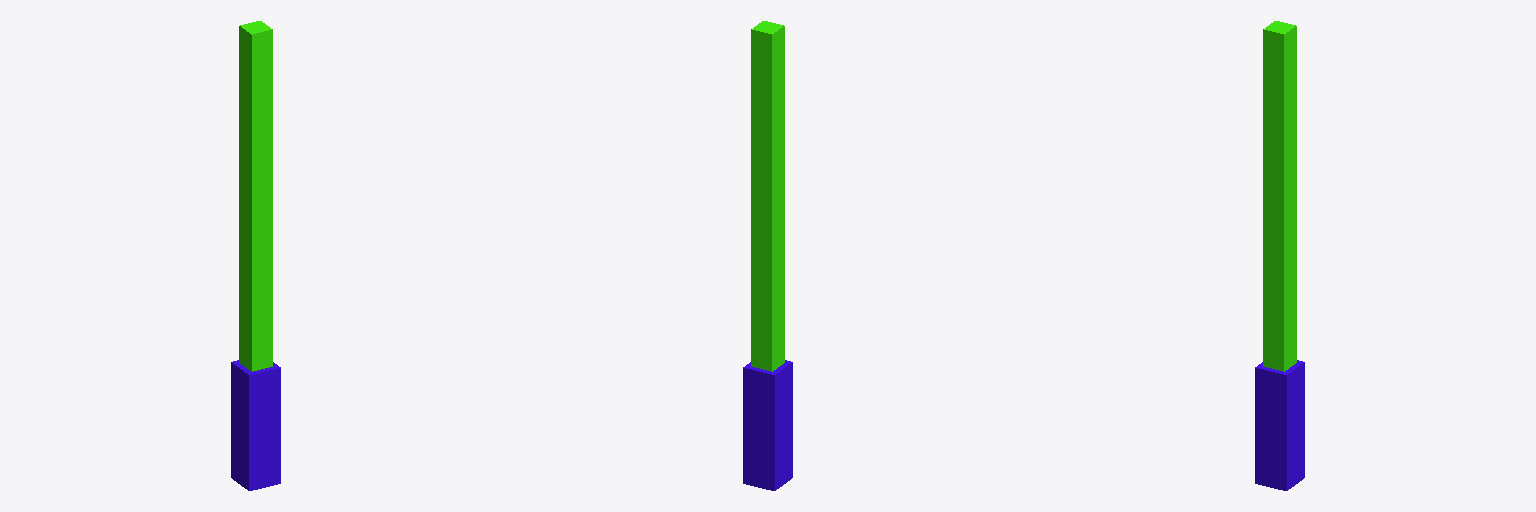
--- Render facts (derived) ---
The picture shows the robot from 3 angles, left to right: view 1: azimuth 30°, elevation 25°; view 2: azimuth 150°, elevation 25°; view 3: azimuth 330°, elevation 25°; orthographic projection.
Model test1 with 34 links and 33 joints (20 revolute, 13 fixed), rooted at base_link, posed all joints at 0.
Links seen in each view (by area): view 1: act1Seg5, act1Seg3, act1Seg6, act1Seg4, act1Seg2, act1Seg9, act1Seg10, act1Seg7, act1Seg8, act1Seg1, act0Seg10, act0Seg2 (+8 smaller); view 2: act1Seg3, act1Seg5, act1Seg6, act1Seg4, act1Seg9, act1Seg10, act1Seg2, act1Seg7, act1Seg8, act1Seg1, act0Seg10, act1Seg0 (+7 smaller); view 3: act1Seg3, act1Seg5, act1Seg6, act1Seg4, act1Seg9, act1Seg10, act1Seg2, act1Seg7, act1Seg8, act1Seg1, act0Seg10, act1Seg0 (+7 smaller).
Boxes of the visible links, box(x1,y1,x2,y2) form: act1Seg5: box(239, 183, 272, 224); act1Seg3: box(239, 250, 272, 290); act1Seg6: box(239, 152, 272, 191); act1Seg4: box(239, 219, 272, 257); act1Seg2: box(239, 283, 272, 324); act1Seg9: box(239, 51, 272, 92); act1Seg10: box(239, 21, 272, 65); act1Seg7: box(239, 117, 272, 158); act1Seg8: box(239, 86, 272, 125); act1Seg1: box(239, 316, 272, 356); act0Seg10: box(231, 360, 280, 385); act0Seg2: box(231, 448, 280, 471); act1Seg3: box(751, 250, 784, 291); act1Seg5: box(751, 183, 784, 224); act1Seg6: box(751, 150, 784, 191); act1Seg4: box(751, 217, 784, 257); act1Seg9: box(751, 51, 784, 92); act1Seg10: box(751, 21, 784, 66); act1Seg2: box(751, 283, 784, 324); act1Seg7: box(751, 117, 784, 158); act1Seg8: box(751, 84, 784, 125); act1Seg1: box(751, 316, 784, 356); act0Seg10: box(743, 360, 792, 385); act1Seg0: box(751, 342, 784, 371); act1Seg3: box(1263, 250, 1296, 291); act1Seg5: box(1263, 183, 1296, 224); act1Seg6: box(1263, 150, 1296, 191); act1Seg4: box(1263, 217, 1296, 257); act1Seg9: box(1263, 51, 1296, 92); act1Seg10: box(1263, 21, 1296, 66); act1Seg2: box(1263, 283, 1296, 324); act1Seg7: box(1263, 117, 1296, 158); act1Seg8: box(1263, 84, 1296, 125); act1Seg1: box(1263, 316, 1296, 356); act0Seg10: box(1255, 360, 1304, 385); act1Seg0: box(1263, 342, 1296, 371).
Size in the robot's own frame: 0.15 by 0.15 by 2.05 metres.
Geometry: primitives only (box / cylinder / sphere), no mesh files.

robot.urdf — test1:
<?xml version='1.0' encoding='utf-8'?>
<robot name="test1">
  <link name="base_link" />
  <link name="act0Seg0">
    <visual>
      <origin rpy="0 0 0" xyz="0 0 0.0125" />
      <geometry>
        <box size="0.15 0.15 0.05" />
      </geometry>
      <material name="blue">
        <color rgba="0.3 0.1 1.0 1.0" />
      </material>
    </visual>
    <collision>
      <origin rpy="0 0 0" xyz="0 0 0.0125" />
      <geometry>
        <box size="0.15 0.15 0.05" />
      </geometry>
    </collision>
    <inertial>
      <mass value="0.35" />
      <inertia ixx="1" ixy="0" ixz="0" iyy="1" iyz="0" izz="1" />
    </inertial>
  </link>
  <joint name="base_link_to_act0Seg0" type="fixed">
    <parent link="base_link" />
    <child link="act0Seg0" />
    <origin rpy="0 0 0" xyz="0 0 0.0" />
    <axis xyz="1 0 0" />
  </joint>
  <link name="act0Seg1">
    <visual>
      <origin rpy="0.0 0.0 0.0" xyz="0 -0.05 0.025" />
      <geometry>
        <box size="0.15 0.15 0.05" />
      </geometry>
      <material name="blue">
        <color rgba="0.3 0.1 1.0 1.0" />
      </material>
    </visual>
    <collision>
      <origin rpy="0.0 0.0 0.0" xyz="0 -0.05 0.025" />
      <geometry>
        <box size="0.15 0.15 0.05" />
      </geometry>
    </collision>
    <inertial>
      <mass value="0.35" />
      <inertia ixx="1" ixy="0" ixz="0" iyy="1" iyz="0" izz="1" />
    </inertial>
  </link>
  <joint name="act0Seg0_to_act0Seg1_ax0" type="revolute">
    <parent link="act0Seg0" />
    <child link="act0Seg1" />
    <origin rpy="0.0 0.0 0.0" xyz="0 0.05 0.025" />
    <axis xyz="1 0 0" />
    <limit effort="100" lower="-3.141592653589793" upper="3.141592653589793" velocity="3" />
  </joint>
  <link name="act0Seg2">
    <visual>
      <origin rpy="0.0 0.0 0.0" xyz="0 -0.05 0.025" />
      <geometry>
        <box size="0.15 0.15 0.05" />
      </geometry>
      <material name="blue">
        <color rgba="0.3 0.1 1.0 1.0" />
      </material>
    </visual>
    <collision>
      <origin rpy="0.0 0.0 0.0" xyz="0 -0.05 0.025" />
      <geometry>
        <box size="0.15 0.15 0.05" />
      </geometry>
    </collision>
    <inertial>
      <mass value="0.35" />
      <inertia ixx="1" ixy="0" ixz="0" iyy="1" iyz="0" izz="1" />
    </inertial>
  </link>
  <joint name="act0Seg1_to_act0Seg2_ax0" type="revolute">
    <parent link="act0Seg1" />
    <child link="act0Seg2" />
    <origin rpy="0.0 0.0 0.0" xyz="0 0.0 0.05" />
    <axis xyz="1 0 0" />
    <limit effort="100" lower="-3.141592653589793" upper="3.141592653589793" velocity="3" />
  </joint>
  <link name="act0Seg3">
    <visual>
      <origin rpy="0.0 0.0 0.0" xyz="0 -0.05 0.025" />
      <geometry>
        <box size="0.15 0.15 0.05" />
      </geometry>
      <material name="blue">
        <color rgba="0.3 0.1 1.0 1.0" />
      </material>
    </visual>
    <collision>
      <origin rpy="0.0 0.0 0.0" xyz="0 -0.05 0.025" />
      <geometry>
        <box size="0.15 0.15 0.05" />
      </geometry>
    </collision>
    <inertial>
      <mass value="0.35" />
      <inertia ixx="1" ixy="0" ixz="0" iyy="1" iyz="0" izz="1" />
    </inertial>
  </link>
  <joint name="act0Seg2_to_act0Seg3_ax0" type="revolute">
    <parent link="act0Seg2" />
    <child link="act0Seg3" />
    <origin rpy="0.0 0.0 0.0" xyz="0 0.0 0.05" />
    <axis xyz="1 0 0" />
    <limit effort="100" lower="-3.141592653589793" upper="3.141592653589793" velocity="3" />
  </joint>
  <link name="act0Seg4">
    <visual>
      <origin rpy="0.0 0.0 0.0" xyz="0 -0.05 0.025" />
      <geometry>
        <box size="0.15 0.15 0.05" />
      </geometry>
      <material name="blue">
        <color rgba="0.3 0.1 1.0 1.0" />
      </material>
    </visual>
    <collision>
      <origin rpy="0.0 0.0 0.0" xyz="0 -0.05 0.025" />
      <geometry>
        <box size="0.15 0.15 0.05" />
      </geometry>
    </collision>
    <inertial>
      <mass value="0.35" />
      <inertia ixx="1" ixy="0" ixz="0" iyy="1" iyz="0" izz="1" />
    </inertial>
  </link>
  <joint name="act0Seg3_to_act0Seg4_ax0" type="revolute">
    <parent link="act0Seg3" />
    <child link="act0Seg4" />
    <origin rpy="0.0 0.0 0.0" xyz="0 0.0 0.05" />
    <axis xyz="1 0 0" />
    <limit effort="100" lower="-3.141592653589793" upper="3.141592653589793" velocity="3" />
  </joint>
  <link name="act0Seg5">
    <visual>
      <origin rpy="0.0 0.0 0.0" xyz="0 -0.05 0.025" />
      <geometry>
        <box size="0.15 0.15 0.05" />
      </geometry>
      <material name="blue">
        <color rgba="0.3 0.1 1.0 1.0" />
      </material>
    </visual>
    <collision>
      <origin rpy="0.0 0.0 0.0" xyz="0 -0.05 0.025" />
      <geometry>
        <box size="0.15 0.15 0.05" />
      </geometry>
    </collision>
    <inertial>
      <mass value="0.35" />
      <inertia ixx="1" ixy="0" ixz="0" iyy="1" iyz="0" izz="1" />
    </inertial>
  </link>
  <joint name="act0Seg4_to_act0Seg5_ax0" type="revolute">
    <parent link="act0Seg4" />
    <child link="act0Seg5" />
    <origin rpy="0.0 0.0 0.0" xyz="0 0.0 0.05" />
    <axis xyz="1 0 0" />
    <limit effort="100" lower="-3.141592653589793" upper="3.141592653589793" velocity="3" />
  </joint>
  <link name="act0Seg6">
    <visual>
      <origin rpy="0.0 0.0 0.0" xyz="0 -0.05 0.025" />
      <geometry>
        <box size="0.15 0.15 0.05" />
      </geometry>
      <material name="blue">
        <color rgba="0.3 0.1 1.0 1.0" />
      </material>
    </visual>
    <collision>
      <origin rpy="0.0 0.0 0.0" xyz="0 -0.05 0.025" />
      <geometry>
        <box size="0.15 0.15 0.05" />
      </geometry>
    </collision>
    <inertial>
      <mass value="0.35" />
      <inertia ixx="1" ixy="0" ixz="0" iyy="1" iyz="0" izz="1" />
    </inertial>
  </link>
  <joint name="act0Seg5_to_act0Seg6_ax0" type="revolute">
    <parent link="act0Seg5" />
    <child link="act0Seg6" />
    <origin rpy="0.0 0.0 0.0" xyz="0 0.0 0.05" />
    <axis xyz="1 0 0" />
    <limit effort="100" lower="-3.141592653589793" upper="3.141592653589793" velocity="3" />
  </joint>
  <link name="act0Seg7">
    <visual>
      <origin rpy="0.0 0.0 0.0" xyz="0 -0.05 0.025" />
      <geometry>
        <box size="0.15 0.15 0.05" />
      </geometry>
      <material name="blue">
        <color rgba="0.3 0.1 1.0 1.0" />
      </material>
    </visual>
    <collision>
      <origin rpy="0.0 0.0 0.0" xyz="0 -0.05 0.025" />
      <geometry>
        <box size="0.15 0.15 0.05" />
      </geometry>
    </collision>
    <inertial>
      <mass value="0.35" />
      <inertia ixx="1" ixy="0" ixz="0" iyy="1" iyz="0" izz="1" />
    </inertial>
  </link>
  <joint name="act0Seg6_to_act0Seg7_ax0" type="revolute">
    <parent link="act0Seg6" />
    <child link="act0Seg7" />
    <origin rpy="0.0 0.0 0.0" xyz="0 0.0 0.05" />
    <axis xyz="1 0 0" />
    <limit effort="100" lower="-3.141592653589793" upper="3.141592653589793" velocity="3" />
  </joint>
  <link name="act0Seg8">
    <visual>
      <origin rpy="0.0 0.0 0.0" xyz="0 -0.05 0.025" />
      <geometry>
        <box size="0.15 0.15 0.05" />
      </geometry>
      <material name="blue">
        <color rgba="0.3 0.1 1.0 1.0" />
      </material>
    </visual>
    <collision>
      <origin rpy="0.0 0.0 0.0" xyz="0 -0.05 0.025" />
      <geometry>
        <box size="0.15 0.15 0.05" />
      </geometry>
    </collision>
    <inertial>
      <mass value="0.35" />
      <inertia ixx="1" ixy="0" ixz="0" iyy="1" iyz="0" izz="1" />
    </inertial>
  </link>
  <joint name="act0Seg7_to_act0Seg8_ax0" type="revolute">
    <parent link="act0Seg7" />
    <child link="act0Seg8" />
    <origin rpy="0.0 0.0 0.0" xyz="0 0.0 0.05" />
    <axis xyz="1 0 0" />
    <limit effort="100" lower="-3.141592653589793" upper="3.141592653589793" velocity="3" />
  </joint>
  <link name="act0Seg9">
    <visual>
      <origin rpy="0.0 0.0 0.0" xyz="0 -0.05 0.025" />
      <geometry>
        <box size="0.15 0.15 0.05" />
      </geometry>
      <material name="blue">
        <color rgba="0.3 0.1 1.0 1.0" />
      </material>
    </visual>
    <collision>
      <origin rpy="0.0 0.0 0.0" xyz="0 -0.05 0.025" />
      <geometry>
        <box size="0.15 0.15 0.05" />
      </geometry>
    </collision>
    <inertial>
      <mass value="0.35" />
      <inertia ixx="1" ixy="0" ixz="0" iyy="1" iyz="0" izz="1" />
    </inertial>
  </link>
  <joint name="act0Seg8_to_act0Seg9_ax0" type="revolute">
    <parent link="act0Seg8" />
    <child link="act0Seg9" />
    <origin rpy="0.0 0.0 0.0" xyz="0 0.0 0.05" />
    <axis xyz="1 0 0" />
    <limit effort="100" lower="-3.141592653589793" upper="3.141592653589793" velocity="3" />
  </joint>
  <link name="act0Seg10">
    <visual>
      <origin rpy="0.0 0.0 0.0" xyz="0 -0.05 0.0125" />
      <geometry>
        <box size="0.15 0.15 0.05" />
      </geometry>
      <material name="blue">
        <color rgba="0.3 0.1 1.0 1.0" />
      </material>
    </visual>
    <collision>
      <origin rpy="0.0 0.0 0.0" xyz="0 -0.05 0.0125" />
      <geometry>
        <box size="0.15 0.15 0.05" />
      </geometry>
    </collision>
    <inertial>
      <mass value="0.35" />
      <inertia ixx="1" ixy="0" ixz="0" iyy="1" iyz="0" izz="1" />
    </inertial>
  </link>
  <joint name="act0Seg9_to_act0Seg10_ax0" type="revolute">
    <parent link="act0Seg9" />
    <child link="act0Seg10" />
    <origin rpy="0.0 0.0 0.0" xyz="0 0.0 0.05" />
    <axis xyz="1 0 0" />
    <limit effort="100" lower="-3.141592653589793" upper="3.141592653589793" velocity="3" />
  </joint>
  <link name="act1Seg0">
    <visual>
      <origin rpy="0 0 0" xyz="0 0 0.0375" />
      <geometry>
        <box size="0.1 0.1 0.15" />
      </geometry>
      <material name="green">
        <color rgba="0.3 1 0.1 1.0" />
      </material>
    </visual>
    <collision>
      <origin rpy="0 0 0" xyz="0 0 0.0375" />
      <geometry>
        <box size="0.1 0.1 0.15" />
      </geometry>
    </collision>
    <inertial>
      <mass value="0.35" />
      <inertia ixx="1" ixy="0" ixz="0" iyy="1" iyz="0" izz="1" />
    </inertial>
  </link>
  <joint name="act0Seg10_to_act1Seg0_ax1" type="fixed">
    <parent link="act0Seg10" />
    <child link="act1Seg0" />
    <origin rpy="0.0 0.0 0.0" xyz="0 -0.05 0.025" />
    <axis xyz="0 1 0" />
    <limit effort="100" lower="-3.141592653589793" upper="3.141592653589793" velocity="3" />
  </joint>
  <link name="act1Seg0helper_shape">
    <visual>
      <origin rpy="-1.5707963267948966 0 0" xyz="0 0 0.0" />
      <geometry>
        <cylinder length="0.1" radius="0.05" />
      </geometry>
      <material name="green">
        <color rgba="0.3 1 0.1 1.0" />
      </material>
    </visual>
    <collision>
      <origin rpy="-1.5707963267948966 0 0" xyz="0 0 0.0" />
      <geometry>
        <cylinder length="0.1" radius="0.05" />
      </geometry>
    </collision>
    <inertial>
      <mass value="0.00035" />
      <inertia ixx="0.001" ixy="0.0" ixz="0.0" iyy="0.001" iyz="0.0" izz="0.001" />
    </inertial>
  </link>
  <joint name="act0Seg10_to_act1Seg0_ax1helper_shape" type="fixed">
    <parent link="act0Seg10" />
    <child link="act1Seg0helper_shape" />
    <origin rpy="0.0 0.0 0.0" xyz="0 -0.05 0.025" />
    <axis xyz="1 0 0" />
  </joint>
  <link name="act1Seg1">
    <visual>
      <origin rpy="0.0 0.0 0.0" xyz="0 -0.05 0.075" />
      <geometry>
        <box size="0.1 0.1 0.15" />
      </geometry>
      <material name="green">
        <color rgba="0.3 1 0.1 1.0" />
      </material>
    </visual>
    <collision>
      <origin rpy="0.0 0.0 0.0" xyz="0 -0.05 0.075" />
      <geometry>
        <box size="0.1 0.1 0.15" />
      </geometry>
    </collision>
    <inertial>
      <mass value="0.35" />
      <inertia ixx="1" ixy="0" ixz="0" iyy="1" iyz="0" izz="1" />
    </inertial>
  </link>
  <joint name="act1Seg0_to_act1Seg1_ax0" type="revolute">
    <parent link="act1Seg0" />
    <child link="act1Seg1" />
    <origin rpy="0.0 0.0 0.0" xyz="0 0.05 0.075" />
    <axis xyz="1 0 0" />
    <limit effort="100" lower="-3.141592653589793" upper="3.141592653589793" velocity="3" />
  </joint>
  <link name="act1Seg1helper_shape">
    <visual>
      <origin rpy="0 -1.5707963267948966 0" xyz="0 0 0.0" />
      <geometry>
        <cylinder length="0.1" radius="0.05" />
      </geometry>
      <material name="green">
        <color rgba="0.3 1 0.1 1.0" />
      </material>
    </visual>
    <collision>
      <origin rpy="0 -1.5707963267948966 0" xyz="0 0 0.0" />
      <geometry>
        <cylinder length="0.1" radius="0.05" />
      </geometry>
    </collision>
    <inertial>
      <mass value="0.00035" />
      <inertia ixx="0.001" ixy="0.0" ixz="0.0" iyy="0.001" iyz="0.0" izz="0.001" />
    </inertial>
  </link>
  <joint name="act1Seg0_to_act1Seg1_ax0helper_shape" type="fixed">
    <parent link="act1Seg0" />
    <child link="act1Seg1helper_shape" />
    <origin rpy="0 0 0" xyz="0 0 0.075" />
    <axis xyz="1 0 0" />
  </joint>
  <link name="act1Seg2">
    <visual>
      <origin rpy="0 0 0" xyz="0 0 0.075" />
      <geometry>
        <box size="0.1 0.1 0.15" />
      </geometry>
      <material name="green">
        <color rgba="0.3 1 0.1 1.0" />
      </material>
    </visual>
    <collision>
      <origin rpy="0 0 0" xyz="0 0 0.075" />
      <geometry>
        <box size="0.1 0.1 0.15" />
      </geometry>
    </collision>
    <inertial>
      <mass value="0.35" />
      <inertia ixx="1" ixy="0" ixz="0" iyy="1" iyz="0" izz="1" />
    </inertial>
  </link>
  <joint name="act1Seg1_to_act1Seg2_ax1" type="revolute">
    <parent link="act1Seg1" />
    <child link="act1Seg2" />
    <origin rpy="0.0 0.0 0.0" xyz="0 -0.05 0.15" />
    <axis xyz="0 1 0" />
    <limit effort="100" lower="-3.141592653589793" upper="3.141592653589793" velocity="3" />
  </joint>
  <link name="act1Seg2helper_shape">
    <visual>
      <origin rpy="-1.5707963267948966 0 0" xyz="0 0 0.0" />
      <geometry>
        <cylinder length="0.1" radius="0.05" />
      </geometry>
      <material name="green">
        <color rgba="0.3 1 0.1 1.0" />
      </material>
    </visual>
    <collision>
      <origin rpy="-1.5707963267948966 0 0" xyz="0 0 0.0" />
      <geometry>
        <cylinder length="0.1" radius="0.05" />
      </geometry>
    </collision>
    <inertial>
      <mass value="0.00035" />
      <inertia ixx="0.001" ixy="0.0" ixz="0.0" iyy="0.001" iyz="0.0" izz="0.001" />
    </inertial>
  </link>
  <joint name="act1Seg1_to_act1Seg2_ax1helper_shape" type="fixed">
    <parent link="act1Seg1" />
    <child link="act1Seg2helper_shape" />
    <origin rpy="0.0 0.0 0.0" xyz="0 -0.05 0.15" />
    <axis xyz="1 0 0" />
  </joint>
  <link name="act1Seg3">
    <visual>
      <origin rpy="0.0 0.0 0.0" xyz="0 -0.05 0.075" />
      <geometry>
        <box size="0.1 0.1 0.15" />
      </geometry>
      <material name="green">
        <color rgba="0.3 1 0.1 1.0" />
      </material>
    </visual>
    <collision>
      <origin rpy="0.0 0.0 0.0" xyz="0 -0.05 0.075" />
      <geometry>
        <box size="0.1 0.1 0.15" />
      </geometry>
    </collision>
    <inertial>
      <mass value="0.35" />
      <inertia ixx="1" ixy="0" ixz="0" iyy="1" iyz="0" izz="1" />
    </inertial>
  </link>
  <joint name="act1Seg2_to_act1Seg3_ax0" type="revolute">
    <parent link="act1Seg2" />
    <child link="act1Seg3" />
    <origin rpy="0.0 0.0 0.0" xyz="0 0.05 0.15" />
    <axis xyz="1 0 0" />
    <limit effort="100" lower="-3.141592653589793" upper="3.141592653589793" velocity="3" />
  </joint>
  <link name="act1Seg3helper_shape">
    <visual>
      <origin rpy="0 -1.5707963267948966 0" xyz="0 0 0.0" />
      <geometry>
        <cylinder length="0.1" radius="0.05" />
      </geometry>
      <material name="green">
        <color rgba="0.3 1 0.1 1.0" />
      </material>
    </visual>
    <collision>
      <origin rpy="0 -1.5707963267948966 0" xyz="0 0 0.0" />
      <geometry>
        <cylinder length="0.1" radius="0.05" />
      </geometry>
    </collision>
    <inertial>
      <mass value="0.00035" />
      <inertia ixx="0.001" ixy="0.0" ixz="0.0" iyy="0.001" iyz="0.0" izz="0.001" />
    </inertial>
  </link>
  <joint name="act1Seg2_to_act1Seg3_ax0helper_shape" type="fixed">
    <parent link="act1Seg2" />
    <child link="act1Seg3helper_shape" />
    <origin rpy="0 0 0" xyz="0 0 0.15" />
    <axis xyz="1 0 0" />
  </joint>
  <link name="act1Seg4">
    <visual>
      <origin rpy="0 0 0" xyz="0 0 0.075" />
      <geometry>
        <box size="0.1 0.1 0.15" />
      </geometry>
      <material name="green">
        <color rgba="0.3 1 0.1 1.0" />
      </material>
    </visual>
    <collision>
      <origin rpy="0 0 0" xyz="0 0 0.075" />
      <geometry>
        <box size="0.1 0.1 0.15" />
      </geometry>
    </collision>
    <inertial>
      <mass value="0.35" />
      <inertia ixx="1" ixy="0" ixz="0" iyy="1" iyz="0" izz="1" />
    </inertial>
  </link>
  <joint name="act1Seg3_to_act1Seg4_ax1" type="revolute">
    <parent link="act1Seg3" />
    <child link="act1Seg4" />
    <origin rpy="0.0 0.0 0.0" xyz="0 -0.05 0.15" />
    <axis xyz="0 1 0" />
    <limit effort="100" lower="-3.141592653589793" upper="3.141592653589793" velocity="3" />
  </joint>
  <link name="act1Seg4helper_shape">
    <visual>
      <origin rpy="-1.5707963267948966 0 0" xyz="0 0 0.0" />
      <geometry>
        <cylinder length="0.1" radius="0.05" />
      </geometry>
      <material name="green">
        <color rgba="0.3 1 0.1 1.0" />
      </material>
    </visual>
    <collision>
      <origin rpy="-1.5707963267948966 0 0" xyz="0 0 0.0" />
      <geometry>
        <cylinder length="0.1" radius="0.05" />
      </geometry>
    </collision>
    <inertial>
      <mass value="0.00035" />
      <inertia ixx="0.001" ixy="0.0" ixz="0.0" iyy="0.001" iyz="0.0" izz="0.001" />
    </inertial>
  </link>
  <joint name="act1Seg3_to_act1Seg4_ax1helper_shape" type="fixed">
    <parent link="act1Seg3" />
    <child link="act1Seg4helper_shape" />
    <origin rpy="0.0 0.0 0.0" xyz="0 -0.05 0.15" />
    <axis xyz="1 0 0" />
  </joint>
  <link name="act1Seg5">
    <visual>
      <origin rpy="0.0 0.0 0.0" xyz="0 -0.05 0.075" />
      <geometry>
        <box size="0.1 0.1 0.15" />
      </geometry>
      <material name="green">
        <color rgba="0.3 1 0.1 1.0" />
      </material>
    </visual>
    <collision>
      <origin rpy="0.0 0.0 0.0" xyz="0 -0.05 0.075" />
      <geometry>
        <box size="0.1 0.1 0.15" />
      </geometry>
    </collision>
    <inertial>
      <mass value="0.35" />
      <inertia ixx="1" ixy="0" ixz="0" iyy="1" iyz="0" izz="1" />
    </inertial>
  </link>
  <joint name="act1Seg4_to_act1Seg5_ax0" type="revolute">
    <parent link="act1Seg4" />
    <child link="act1Seg5" />
    <origin rpy="0.0 0.0 0.0" xyz="0 0.05 0.15" />
    <axis xyz="1 0 0" />
    <limit effort="100" lower="-3.141592653589793" upper="3.141592653589793" velocity="3" />
  </joint>
  <link name="act1Seg5helper_shape">
    <visual>
      <origin rpy="0 -1.5707963267948966 0" xyz="0 0 0.0" />
      <geometry>
        <cylinder length="0.1" radius="0.05" />
      </geometry>
      <material name="green">
        <color rgba="0.3 1 0.1 1.0" />
      </material>
    </visual>
    <collision>
      <origin rpy="0 -1.5707963267948966 0" xyz="0 0 0.0" />
      <geometry>
        <cylinder length="0.1" radius="0.05" />
      </geometry>
    </collision>
    <inertial>
      <mass value="0.00035" />
      <inertia ixx="0.001" ixy="0.0" ixz="0.0" iyy="0.001" iyz="0.0" izz="0.001" />
    </inertial>
  </link>
  <joint name="act1Seg4_to_act1Seg5_ax0helper_shape" type="fixed">
    <parent link="act1Seg4" />
    <child link="act1Seg5helper_shape" />
    <origin rpy="0 0 0" xyz="0 0 0.15" />
    <axis xyz="1 0 0" />
  </joint>
  <link name="act1Seg6">
    <visual>
      <origin rpy="0 0 0" xyz="0 0 0.075" />
      <geometry>
        <box size="0.1 0.1 0.15" />
      </geometry>
      <material name="green">
        <color rgba="0.3 1 0.1 1.0" />
      </material>
    </visual>
    <collision>
      <origin rpy="0 0 0" xyz="0 0 0.075" />
      <geometry>
        <box size="0.1 0.1 0.15" />
      </geometry>
    </collision>
    <inertial>
      <mass value="0.35" />
      <inertia ixx="1" ixy="0" ixz="0" iyy="1" iyz="0" izz="1" />
    </inertial>
  </link>
  <joint name="act1Seg5_to_act1Seg6_ax1" type="revolute">
    <parent link="act1Seg5" />
    <child link="act1Seg6" />
    <origin rpy="0.0 0.0 0.0" xyz="0 -0.05 0.15" />
    <axis xyz="0 1 0" />
    <limit effort="100" lower="-3.141592653589793" upper="3.141592653589793" velocity="3" />
  </joint>
  <link name="act1Seg6helper_shape">
    <visual>
      <origin rpy="-1.5707963267948966 0 0" xyz="0 0 0.0" />
      <geometry>
        <cylinder length="0.1" radius="0.05" />
      </geometry>
      <material name="green">
        <color rgba="0.3 1 0.1 1.0" />
      </material>
    </visual>
    <collision>
      <origin rpy="-1.5707963267948966 0 0" xyz="0 0 0.0" />
      <geometry>
        <cylinder length="0.1" radius="0.05" />
      </geometry>
    </collision>
    <inertial>
      <mass value="0.00035" />
      <inertia ixx="0.001" ixy="0.0" ixz="0.0" iyy="0.001" iyz="0.0" izz="0.001" />
    </inertial>
  </link>
  <joint name="act1Seg5_to_act1Seg6_ax1helper_shape" type="fixed">
    <parent link="act1Seg5" />
    <child link="act1Seg6helper_shape" />
    <origin rpy="0.0 0.0 0.0" xyz="0 -0.05 0.15" />
    <axis xyz="1 0 0" />
  </joint>
  <link name="act1Seg7">
    <visual>
      <origin rpy="0.0 0.0 0.0" xyz="0 -0.05 0.075" />
      <geometry>
        <box size="0.1 0.1 0.15" />
      </geometry>
      <material name="green">
        <color rgba="0.3 1 0.1 1.0" />
      </material>
    </visual>
    <collision>
      <origin rpy="0.0 0.0 0.0" xyz="0 -0.05 0.075" />
      <geometry>
        <box size="0.1 0.1 0.15" />
      </geometry>
    </collision>
    <inertial>
      <mass value="0.35" />
      <inertia ixx="1" ixy="0" ixz="0" iyy="1" iyz="0" izz="1" />
    </inertial>
  </link>
  <joint name="act1Seg6_to_act1Seg7_ax0" type="revolute">
    <parent link="act1Seg6" />
    <child link="act1Seg7" />
    <origin rpy="0.0 0.0 0.0" xyz="0 0.05 0.15" />
    <axis xyz="1 0 0" />
    <limit effort="100" lower="-3.141592653589793" upper="3.141592653589793" velocity="3" />
  </joint>
  <link name="act1Seg7helper_shape">
    <visual>
      <origin rpy="0 -1.5707963267948966 0" xyz="0 0 0.0" />
      <geometry>
        <cylinder length="0.1" radius="0.05" />
      </geometry>
      <material name="green">
        <color rgba="0.3 1 0.1 1.0" />
      </material>
    </visual>
    <collision>
      <origin rpy="0 -1.5707963267948966 0" xyz="0 0 0.0" />
      <geometry>
        <cylinder length="0.1" radius="0.05" />
      </geometry>
    </collision>
    <inertial>
      <mass value="0.00035" />
      <inertia ixx="0.001" ixy="0.0" ixz="0.0" iyy="0.001" iyz="0.0" izz="0.001" />
    </inertial>
  </link>
  <joint name="act1Seg6_to_act1Seg7_ax0helper_shape" type="fixed">
    <parent link="act1Seg6" />
    <child link="act1Seg7helper_shape" />
    <origin rpy="0 0 0" xyz="0 0 0.15" />
    <axis xyz="1 0 0" />
  </joint>
  <link name="act1Seg8">
    <visual>
      <origin rpy="0 0 0" xyz="0 0 0.075" />
      <geometry>
        <box size="0.1 0.1 0.15" />
      </geometry>
      <material name="green">
        <color rgba="0.3 1 0.1 1.0" />
      </material>
    </visual>
    <collision>
      <origin rpy="0 0 0" xyz="0 0 0.075" />
      <geometry>
        <box size="0.1 0.1 0.15" />
      </geometry>
    </collision>
    <inertial>
      <mass value="0.35" />
      <inertia ixx="1" ixy="0" ixz="0" iyy="1" iyz="0" izz="1" />
    </inertial>
  </link>
  <joint name="act1Seg7_to_act1Seg8_ax1" type="revolute">
    <parent link="act1Seg7" />
    <child link="act1Seg8" />
    <origin rpy="0.0 0.0 0.0" xyz="0 -0.05 0.15" />
    <axis xyz="0 1 0" />
    <limit effort="100" lower="-3.141592653589793" upper="3.141592653589793" velocity="3" />
  </joint>
  <link name="act1Seg8helper_shape">
    <visual>
      <origin rpy="-1.5707963267948966 0 0" xyz="0 0 0.0" />
      <geometry>
        <cylinder length="0.1" radius="0.05" />
      </geometry>
      <material name="green">
        <color rgba="0.3 1 0.1 1.0" />
      </material>
    </visual>
    <collision>
      <origin rpy="-1.5707963267948966 0 0" xyz="0 0 0.0" />
      <geometry>
        <cylinder length="0.1" radius="0.05" />
      </geometry>
    </collision>
    <inertial>
      <mass value="0.00035" />
      <inertia ixx="0.001" ixy="0.0" ixz="0.0" iyy="0.001" iyz="0.0" izz="0.001" />
    </inertial>
  </link>
  <joint name="act1Seg7_to_act1Seg8_ax1helper_shape" type="fixed">
    <parent link="act1Seg7" />
    <child link="act1Seg8helper_shape" />
    <origin rpy="0.0 0.0 0.0" xyz="0 -0.05 0.15" />
    <axis xyz="1 0 0" />
  </joint>
  <link name="act1Seg9">
    <visual>
      <origin rpy="0.0 0.0 0.0" xyz="0 -0.05 0.075" />
      <geometry>
        <box size="0.1 0.1 0.15" />
      </geometry>
      <material name="green">
        <color rgba="0.3 1 0.1 1.0" />
      </material>
    </visual>
    <collision>
      <origin rpy="0.0 0.0 0.0" xyz="0 -0.05 0.075" />
      <geometry>
        <box size="0.1 0.1 0.15" />
      </geometry>
    </collision>
    <inertial>
      <mass value="0.35" />
      <inertia ixx="1" ixy="0" ixz="0" iyy="1" iyz="0" izz="1" />
    </inertial>
  </link>
  <joint name="act1Seg8_to_act1Seg9_ax0" type="revolute">
    <parent link="act1Seg8" />
    <child link="act1Seg9" />
    <origin rpy="0.0 0.0 0.0" xyz="0 0.05 0.15" />
    <axis xyz="1 0 0" />
    <limit effort="100" lower="-3.141592653589793" upper="3.141592653589793" velocity="3" />
  </joint>
  <link name="act1Seg9helper_shape">
    <visual>
      <origin rpy="0 -1.5707963267948966 0" xyz="0 0 0.0" />
      <geometry>
        <cylinder length="0.1" radius="0.05" />
      </geometry>
      <material name="green">
        <color rgba="0.3 1 0.1 1.0" />
      </material>
    </visual>
    <collision>
      <origin rpy="0 -1.5707963267948966 0" xyz="0 0 0.0" />
      <geometry>
        <cylinder length="0.1" radius="0.05" />
      </geometry>
    </collision>
    <inertial>
      <mass value="0.00035" />
      <inertia ixx="0.001" ixy="0.0" ixz="0.0" iyy="0.001" iyz="0.0" izz="0.001" />
    </inertial>
  </link>
  <joint name="act1Seg8_to_act1Seg9_ax0helper_shape" type="fixed">
    <parent link="act1Seg8" />
    <child link="act1Seg9helper_shape" />
    <origin rpy="0 0 0" xyz="0 0 0.15" />
    <axis xyz="1 0 0" />
  </joint>
  <link name="act1Seg10">
    <visual>
      <origin rpy="0 0 0" xyz="0 0 0.0375" />
      <geometry>
        <box size="0.1 0.1 0.15" />
      </geometry>
      <material name="green">
        <color rgba="0.3 1 0.1 1.0" />
      </material>
    </visual>
    <collision>
      <origin rpy="0 0 0" xyz="0 0 0.0375" />
      <geometry>
        <box size="0.1 0.1 0.15" />
      </geometry>
    </collision>
    <inertial>
      <mass value="0.35" />
      <inertia ixx="1" ixy="0" ixz="0" iyy="1" iyz="0" izz="1" />
    </inertial>
  </link>
  <joint name="act1Seg9_to_act1Seg10_ax1" type="revolute">
    <parent link="act1Seg9" />
    <child link="act1Seg10" />
    <origin rpy="0.0 0.0 0.0" xyz="0 -0.05 0.15" />
    <axis xyz="0 1 0" />
    <limit effort="100" lower="-3.141592653589793" upper="3.141592653589793" velocity="3" />
  </joint>
  <link name="act1Seg10helper_shape">
    <visual>
      <origin rpy="-1.5707963267948966 0 0" xyz="0 0 0.0" />
      <geometry>
        <cylinder length="0.1" radius="0.05" />
      </geometry>
      <material name="green">
        <color rgba="0.3 1 0.1 1.0" />
      </material>
    </visual>
    <collision>
      <origin rpy="-1.5707963267948966 0 0" xyz="0 0 0.0" />
      <geometry>
        <cylinder length="0.1" radius="0.05" />
      </geometry>
    </collision>
    <inertial>
      <mass value="0.00035" />
      <inertia ixx="0.001" ixy="0.0" ixz="0.0" iyy="0.001" iyz="0.0" izz="0.001" />
    </inertial>
  </link>
  <joint name="act1Seg9_to_act1Seg10_ax1helper_shape" type="fixed">
    <parent link="act1Seg9" />
    <child link="act1Seg10helper_shape" />
    <origin rpy="0.0 0.0 0.0" xyz="0 -0.05 0.15" />
    <axis xyz="1 0 0" />
  </joint>
</robot>
